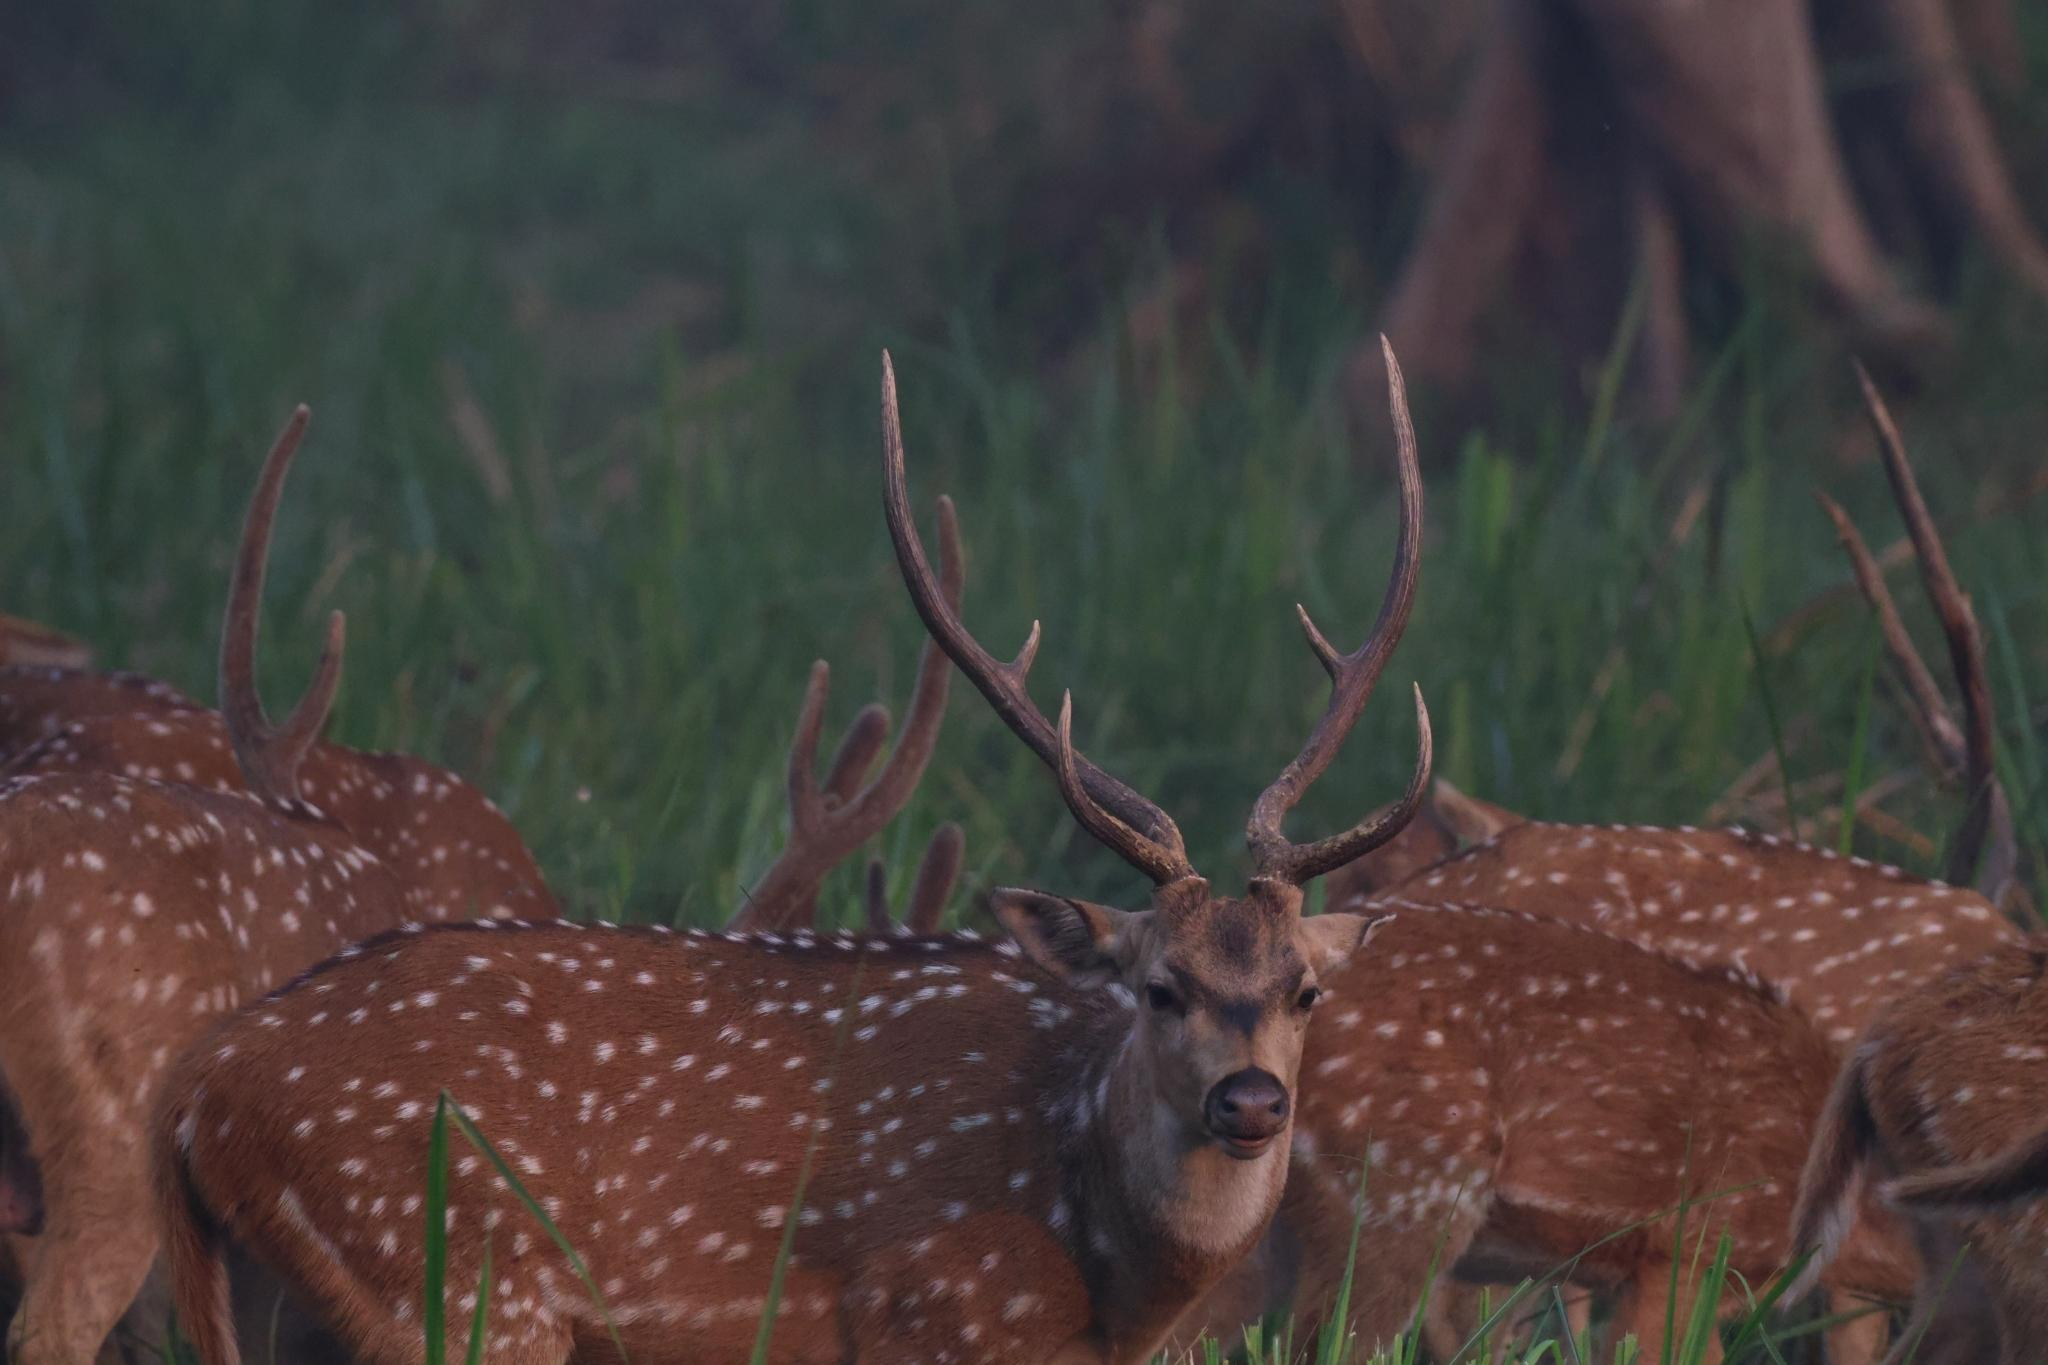Deer: (158, 343, 1431, 1363), (0, 769, 445, 1360), (1276, 903, 1836, 1360), (1358, 821, 2024, 1053), (1794, 945, 2046, 1363)
